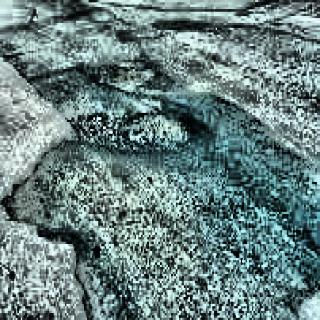pothole: (74, 103, 197, 150), (97, 64, 157, 94)
